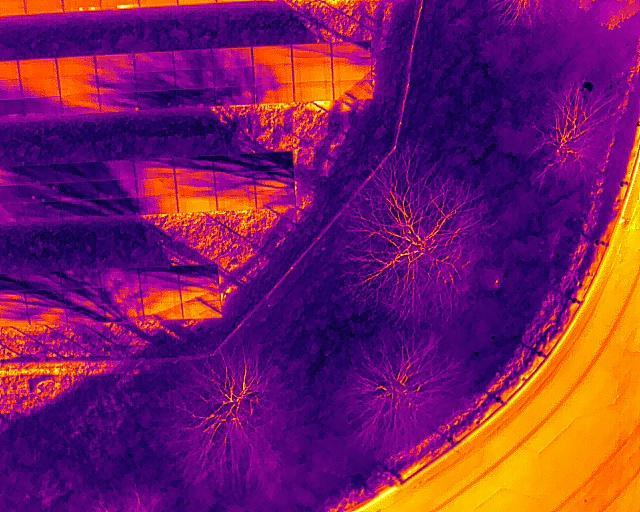No-Anomaly: (252, 44, 292, 65), (292, 63, 333, 83), (294, 81, 333, 102), (57, 56, 95, 76), (20, 78, 59, 97), (18, 59, 58, 77), (177, 196, 216, 212), (25, 0, 64, 15)
Shadowing: (213, 45, 253, 68), (22, 203, 64, 224), (179, 265, 221, 286), (331, 60, 373, 81), (211, 155, 253, 175), (93, 160, 133, 181), (214, 174, 256, 194), (213, 67, 254, 87), (174, 69, 215, 89), (133, 158, 173, 178), (19, 185, 59, 205), (173, 49, 213, 69), (95, 179, 137, 198), (254, 64, 293, 84), (176, 176, 215, 196), (252, 152, 293, 171), (54, 163, 95, 182), (96, 53, 137, 72), (100, 269, 143, 287), (58, 75, 96, 95), (254, 84, 294, 103), (16, 165, 56, 184), (291, 44, 331, 63), (135, 52, 174, 71), (256, 171, 293, 191), (133, 71, 174, 89), (332, 81, 373, 99), (213, 87, 254, 105), (59, 94, 100, 112), (137, 268, 180, 285), (136, 90, 174, 109), (59, 183, 97, 202), (105, 303, 143, 322), (64, 288, 104, 306), (143, 301, 183, 319), (98, 198, 140, 215), (62, 200, 99, 219), (174, 89, 213, 107), (21, 97, 60, 115), (174, 157, 213, 175), (137, 178, 176, 196), (216, 194, 257, 211), (182, 302, 223, 319), (96, 74, 134, 92), (140, 197, 178, 215), (97, 92, 137, 109), (255, 192, 295, 209), (60, 272, 100, 289), (141, 285, 181, 302), (180, 286, 220, 303), (331, 42, 371, 59), (66, 307, 107, 323), (102, 288, 142, 304), (24, 289, 64, 304), (28, 306, 68, 321), (24, 274, 62, 289)
